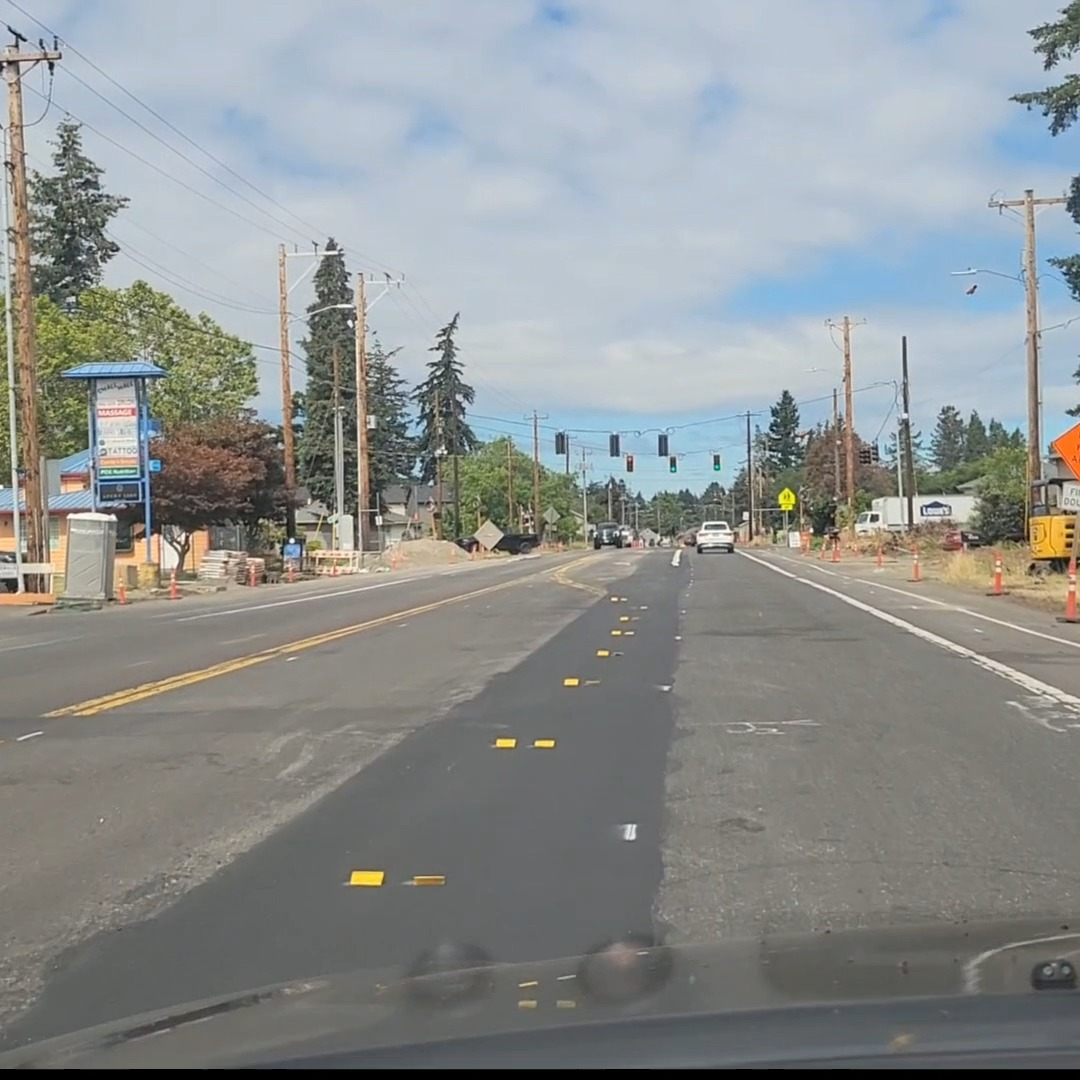car: (695, 521, 735, 553), (592, 521, 622, 549)
crosswalk-sign: (777, 487, 796, 511)
delineator: (1059, 567, 1079, 622), (985, 551, 1008, 596), (137, 563, 158, 591), (907, 542, 922, 581), (115, 579, 129, 604), (168, 569, 179, 598), (126, 564, 138, 589), (830, 535, 840, 562), (875, 541, 884, 568), (800, 531, 810, 554), (818, 535, 827, 558), (248, 562, 256, 587), (286, 561, 295, 582), (468, 545, 475, 560)
